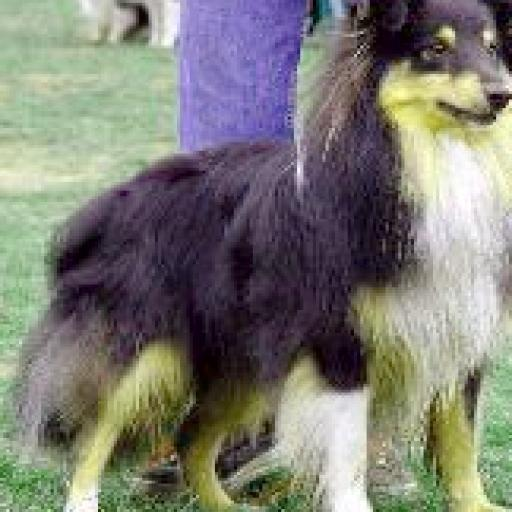dog_face: (354, 0, 512, 137)
